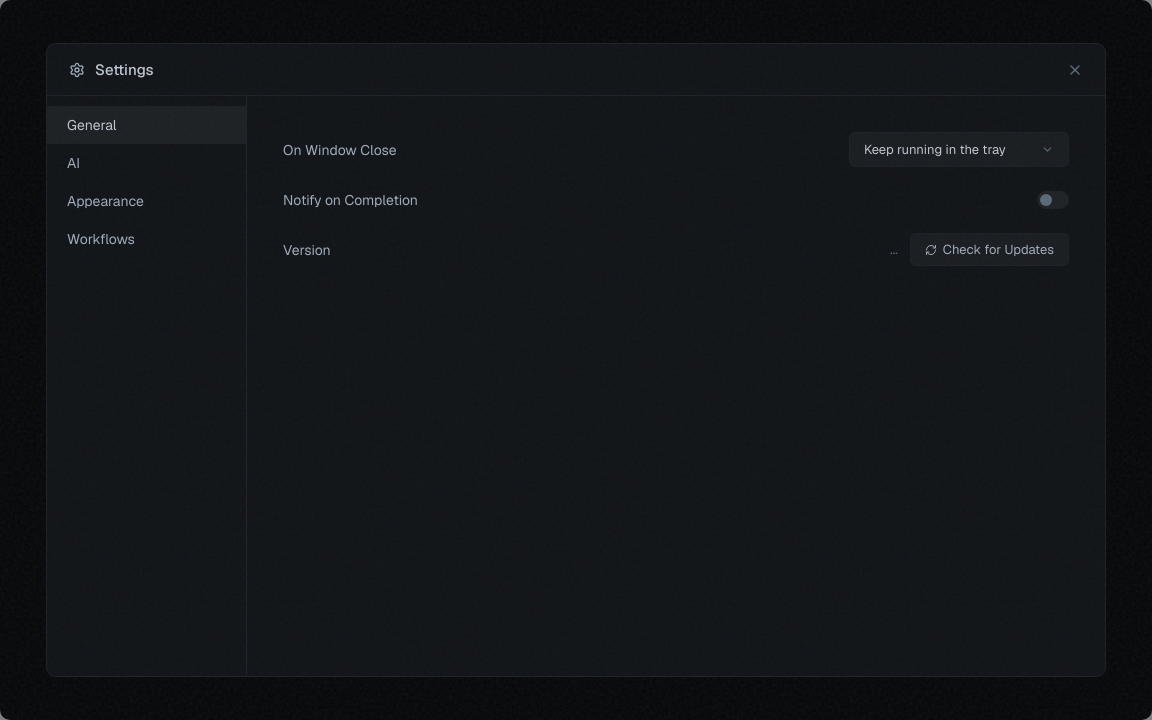
Test case: SettingsOverlay — async workflows.get › renders workflow name after the promise resolves
Click the text "Workflows" at (101, 239), box [67,230,135,248]
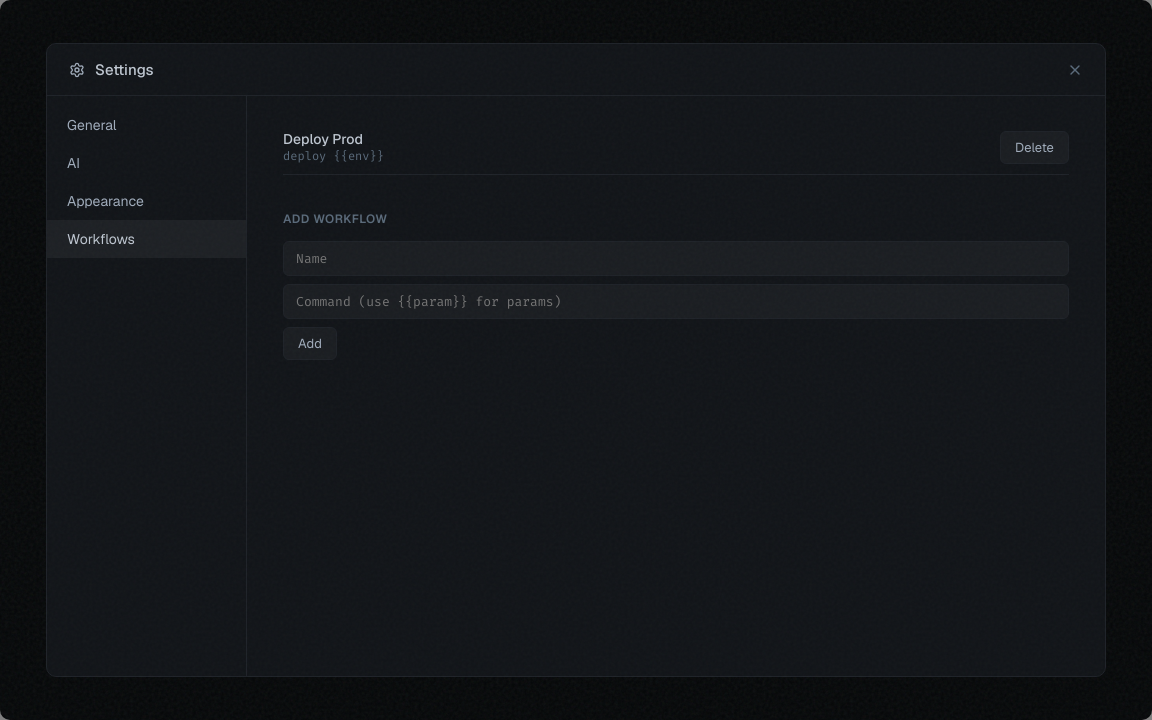
Check: the text "Deploy Prod" is shown, box [283,130,363,148]
